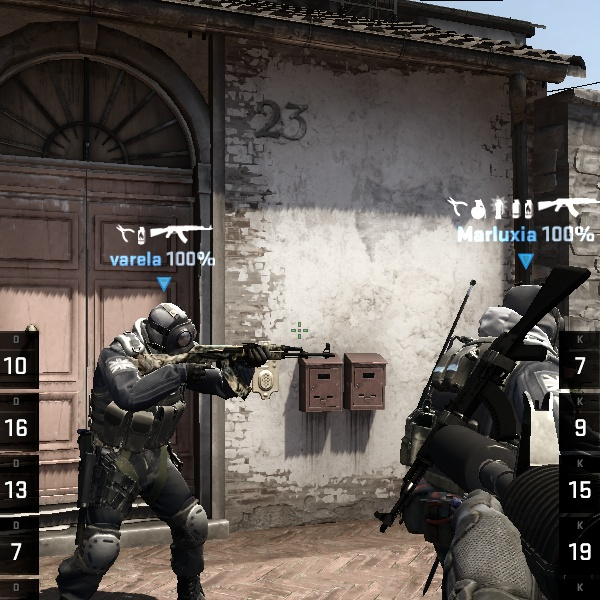ct_body: (381, 259, 598, 600), (56, 294, 236, 600)
ct_head: (134, 298, 207, 367)
